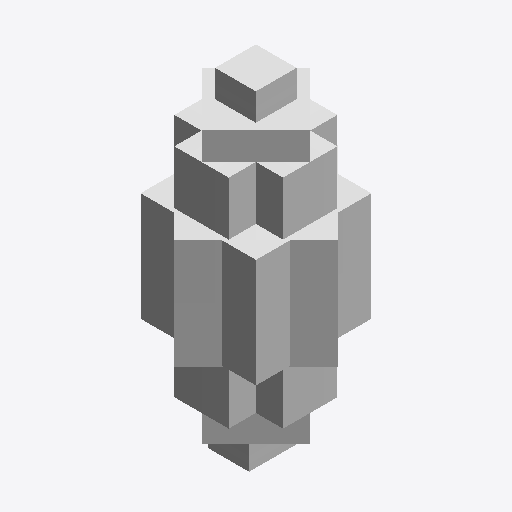
A Minecraft block model of 9 cuboids, rendered isometrically (azimuth 45°, elevation 35.3°) with the resource pack's own textures.
Parts seen in each view (by area): element 9, element 8, element 5, element 4, element 1, element 2, element 3, element 7, element 6.
Part boxes in pixels (x1,y1,x2,y2): element 9: (141, 174, 370, 384); element 8: (174, 145, 337, 366); element 5: (174, 131, 255, 428); element 4: (256, 131, 336, 427); element 1: (202, 68, 309, 443); element 2: (215, 45, 296, 122); element 3: (208, 444, 295, 471); element 7: (174, 99, 201, 145); element 6: (310, 99, 336, 145).
Size of the model in its own units: 6.01 by 12 by 6.01.